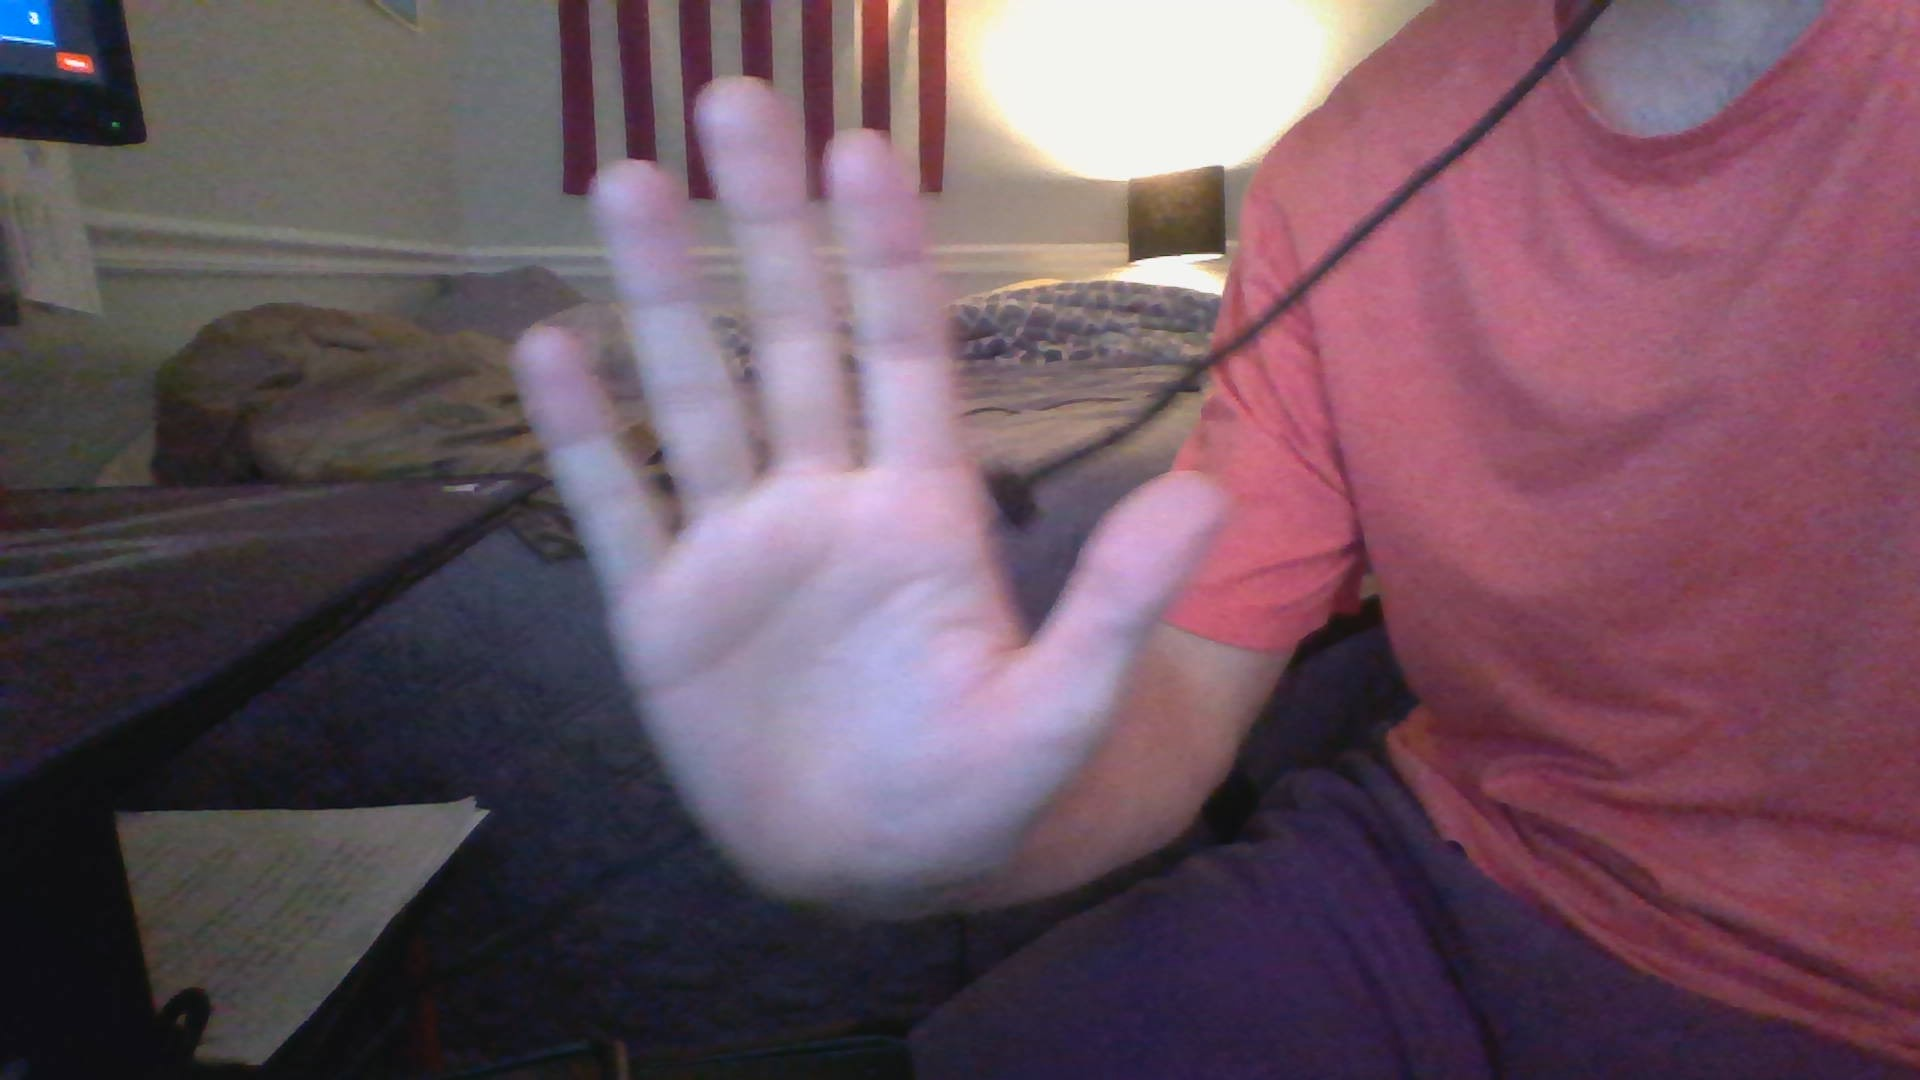Right Palm Up: (492, 69, 1234, 884)
